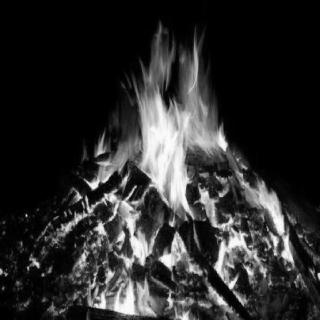Fire: (2, 2, 320, 316)
